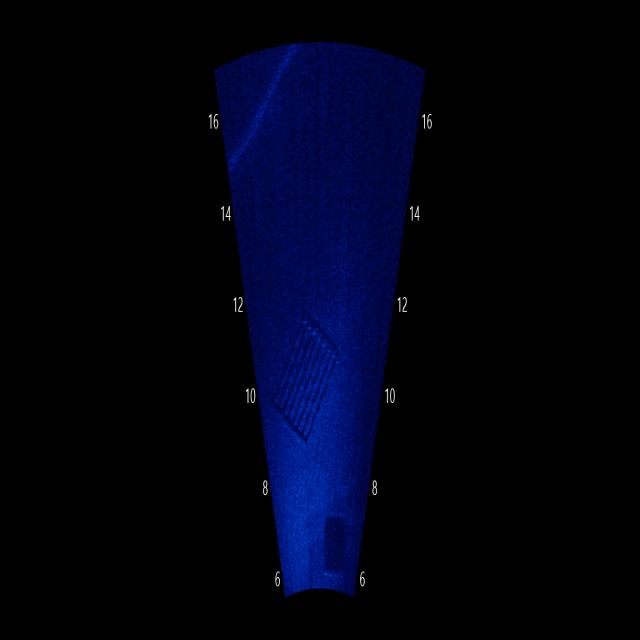square: (265, 303, 343, 455), (320, 505, 348, 584)
